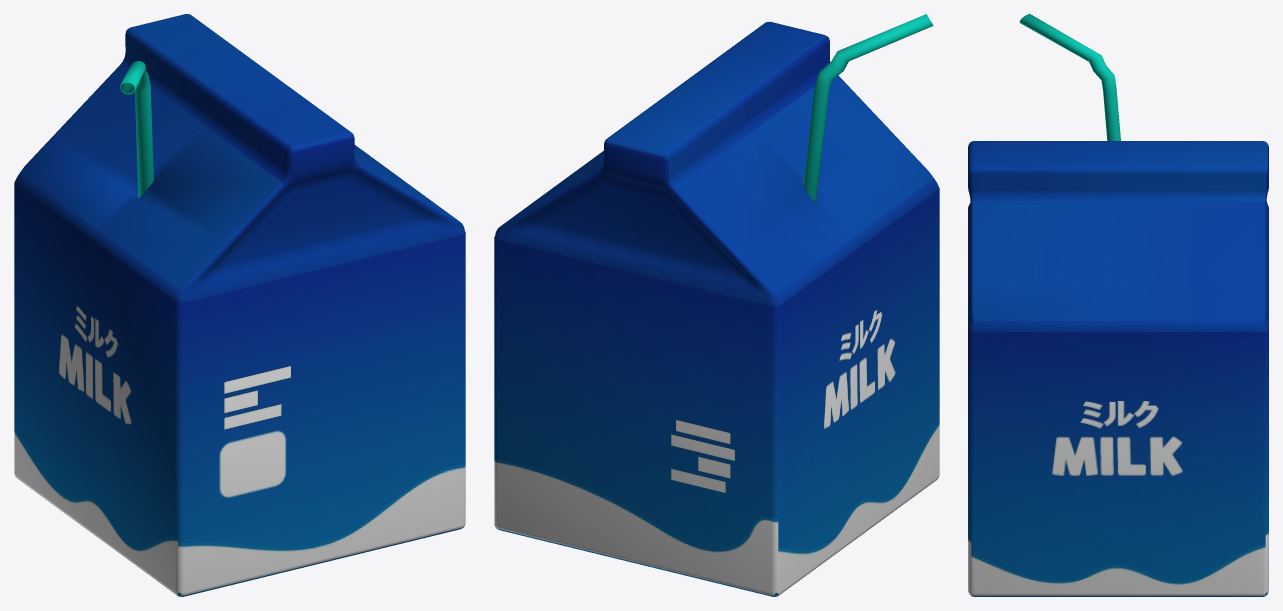
File: Milk_Classic.gltf
3 views of the same model, side by side, from view 1: azimuth 30°, elevation 25°; view 2: azimuth 150°, elevation 25°; view 3: azimuth 270°, elevation 25° (orthographic). The views are drawn at different scales.
Parts seen in each view (by area): view 1: Milk_Classic_x; view 2: Milk_Classic_x; view 3: Milk_Classic_x.
Boxes of the visible parts, left/top/right/bottom form: Milk_Classic_x: left=14, top=14, right=465, bottom=596; Milk_Classic_x: left=494, top=14, right=939, bottom=596; Milk_Classic_x: left=968, top=14, right=1268, bottom=596.
Bounding box in the file's own units: 0.0428 × 0.065 × 0.0394.
1 material, 1 textured.
